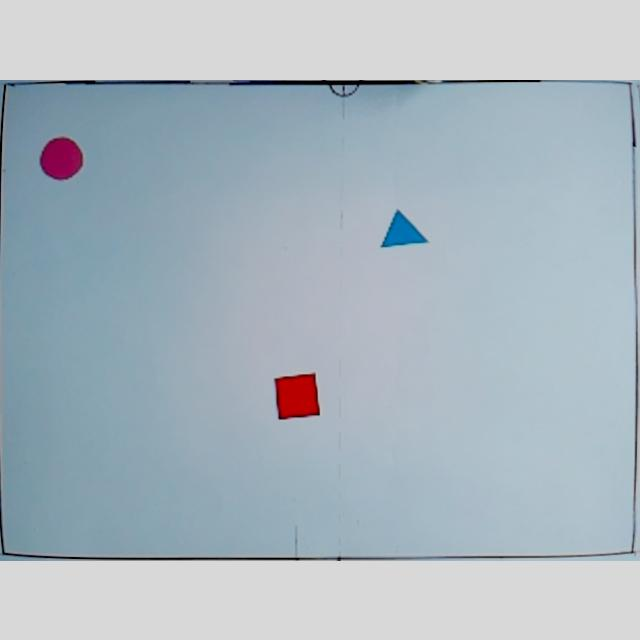blueTriangle: (380, 206, 430, 248)
pinkCircle: (38, 136, 86, 180)
redSquare: (273, 370, 323, 420)
